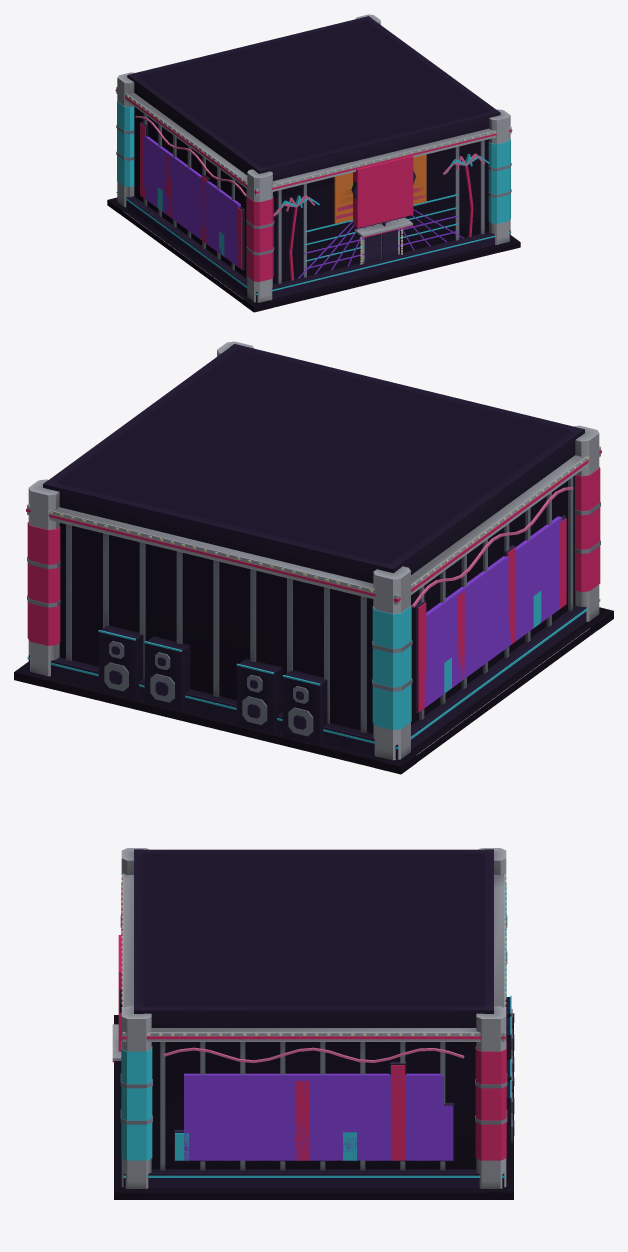
The model's file is NeonHeartFloor.fbx.
The picture shows the model from 3 angles, top to bottom: view 1: azimuth 30°, elevation 25°; view 2: azimuth 150°, elevation 25°; view 3: azimuth 270°, elevation 25°; orthographic projection. The views are drawn at different scales.
Visible parts, largest first — view 1: NH_S_All, NH_F_Rings, NH_F_Glass, NH_F_Smooth, NH_F_Quiet; view 2: NH_S_All, NH_F_Rings, NH_F_Smooth, NH_F_Glass, NH_F_Props, NH_F_Quiet; view 3: NH_S_All, NH_F_Rings, NH_F_Glass, NH_F_Smooth, NH_F_Quiet, NH_F_Props.
Part boxes in pixels (x1=…): NH_S_All: x1=116, y1=20, x2=511, y2=302; NH_F_Rings: x1=117, y1=14, x2=510, y2=302; NH_F_Glass: x1=115, y1=89, x2=512, y2=295; NH_F_Smooth: x1=107, y1=21, x2=520, y2=312; NH_F_Quiet: x1=108, y1=197, x2=519, y2=306; NH_S_All: x1=27, y1=349, x2=600, y2=760; NH_F_Rings: x1=28, y1=341, x2=599, y2=760; NH_F_Smooth: x1=14, y1=350, x2=613, y2=774; NH_F_Glass: x1=26, y1=450, x2=601, y2=749; NH_F_Props: x1=98, y1=625, x2=327, y2=745; NH_F_Quiet: x1=14, y1=607, x2=613, y2=766; NH_S_All: x1=118, y1=853, x2=505, y2=1192; NH_F_Rings: x1=121, y1=848, x2=506, y2=1188; NH_F_Glass: x1=112, y1=875, x2=511, y2=1177; NH_F_Smooth: x1=112, y1=858, x2=514, y2=1199; NH_F_Quiet: x1=114, y1=1015, x2=513, y2=1192; NH_F_Props: x1=505, y1=997, x2=511, y2=1154.
Size of the model in its own units: 60 by 20 by 60.
